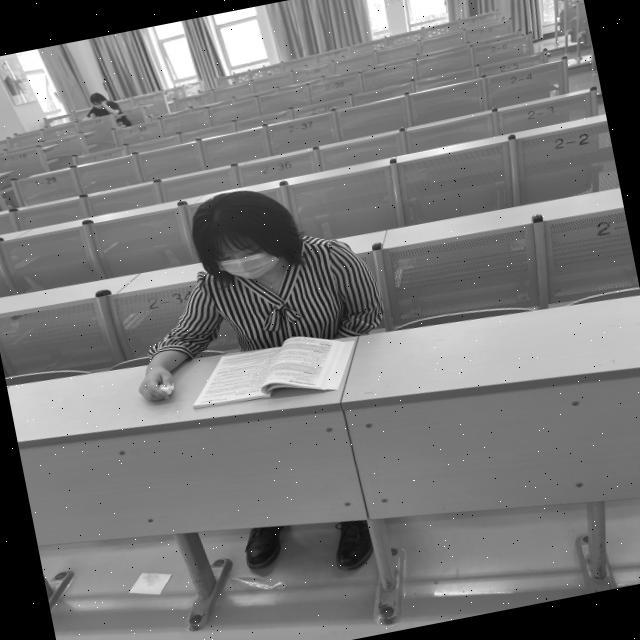study: (108, 170, 397, 419)
